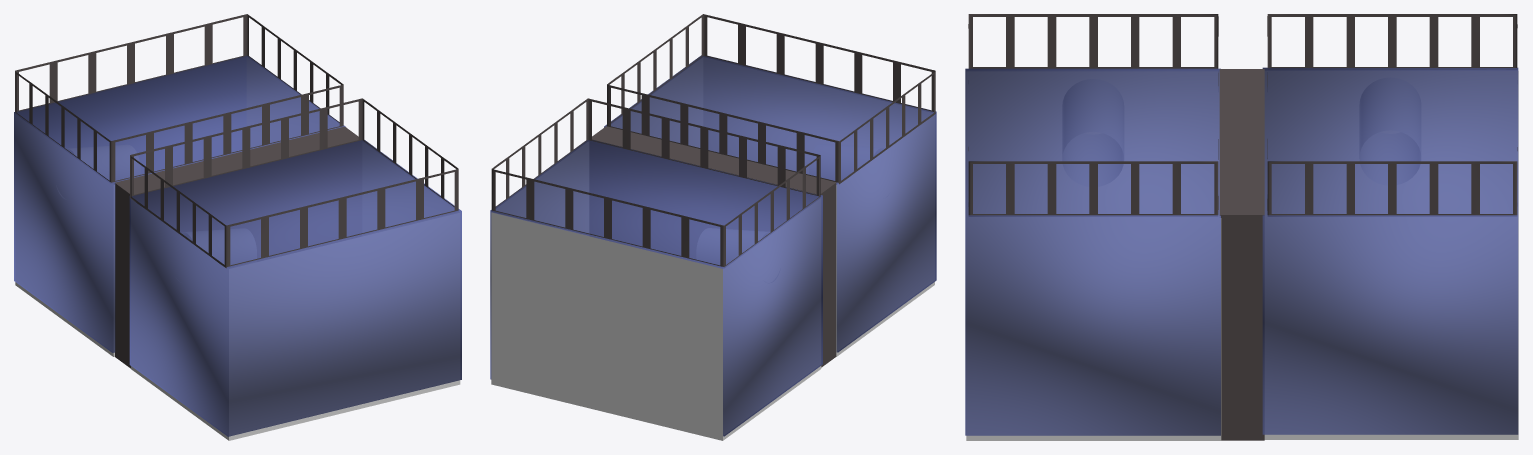
File: Prasedimentasi.fbx
3 views of the same model, side by side, from view 1: azimuth 30°, elevation 25°; view 2: azimuth 150°, elevation 25°; view 3: azimuth 270°, elevation 25° (orthographic). The views are drawn at different scales.
Visible parts, largest first — view 1: Cube, Cube.001, Cube.003, Cube.002, Cube.004, Plane, Plane.001, Cylinder, Cylinder.001; view 2: Cube.002, Cube.003, Cube, Cube.001, Cube.004, Plane.001, Plane, Cylinder.001, Cylinder; view 3: Cube, Cube.003, Cube.002, Cube.001, Cube.004, Plane.001, Plane, Cylinder, Cylinder.001.
Part boxes in pixels (<box>): Cube: <box>129,140,461,436</box>; Cube.001: <box>131,142,460,440</box>; Cube.003: <box>14,55,345,352</box>; Cube.002: <box>15,58,338,356</box>; Cube.004: <box>115,126,361,368</box>; Plane: <box>130,98,458,268</box>; Plane.001: <box>15,14,343,183</box>; Cylinder: <box>182,229,256,268</box>; Cylinder.001: <box>60,145,139,195</box>; Cube.002: <box>491,142,821,440</box>; Cube.003: <box>490,140,822,436</box>; Cube: <box>604,55,936,352</box>; Cube.001: <box>611,57,934,356</box>; Cube.004: <box>590,126,836,367</box>; Plane.001: <box>491,98,820,267</box>; Plane: <box>607,14,935,184</box>; Cylinder.001: <box>697,228,777,281</box>; Cylinder: <box>809,144,884,180</box>; Cube: <box>965,68,1220,435</box>; Cube.003: <box>1262,67,1518,434</box>; Cube.002: <box>1264,71,1518,439</box>; Cube.001: <box>966,72,1221,440</box>; Cube.004: <box>1219,69,1264,440</box>; Plane.001: <box>1267,14,1517,216</box>; Plane: <box>968,14,1218,216</box>; Cylinder: <box>1063,79,1123,185</box>; Cylinder.001: <box>1360,78,1420,184</box>.
Size of the model in its own units: 1043 by 914 by 1640.
